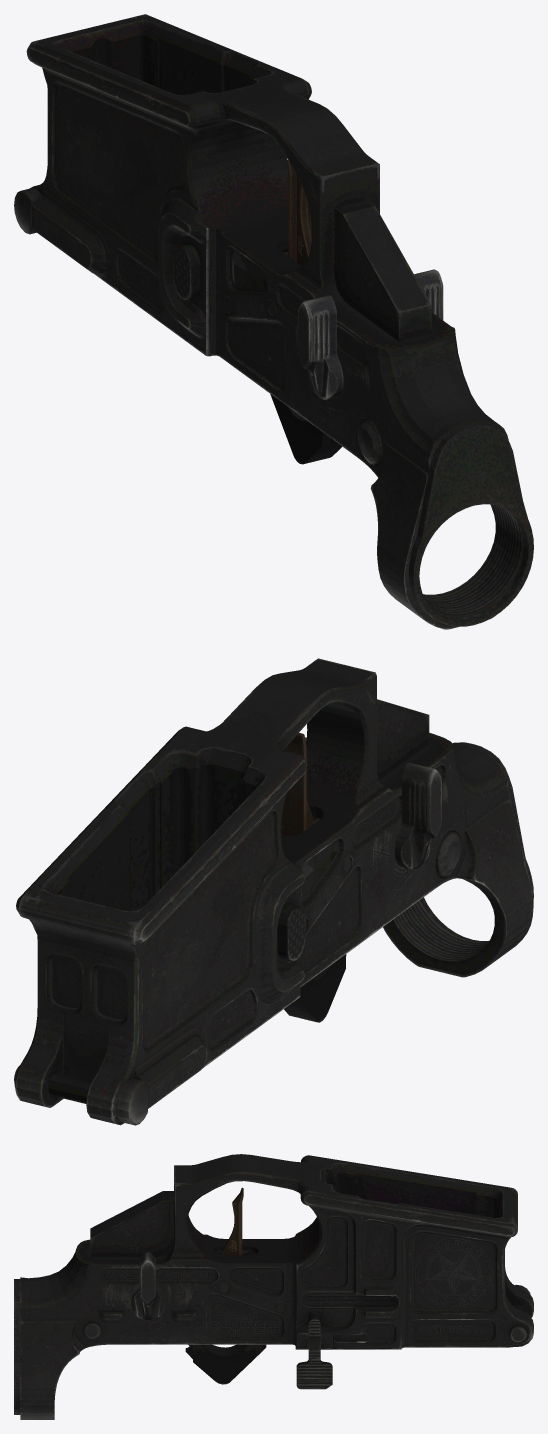
3 views of the same model, one above another, from view 1: azimuth 30°, elevation 25°; view 2: azimuth 150°, elevation 25°; view 3: azimuth 270°, elevation 25° (orthographic). The views are drawn at different scales.
Parts seen in each view (by area): view 1: TW_5d43021ca4b9362eab4b5e25_PZ_Import; view 2: TW_5d43021ca4b9362eab4b5e25_PZ_Import; view 3: TW_5d43021ca4b9362eab4b5e25_PZ_Import.
Boxes of the visible parts, x1=… form: TW_5d43021ca4b9362eab4b5e25_PZ_Import: x1=14, y1=14, x2=533, y2=629; TW_5d43021ca4b9362eab4b5e25_PZ_Import: x1=14, y1=658, x2=533, y2=1125; TW_5d43021ca4b9362eab4b5e25_PZ_Import: x1=14, y1=1154, x2=533, y2=1419.
Size of the model in its own units: 0.0229 by 0.1148 by 0.0608.
Materials: 1 (1 with a texture image).
